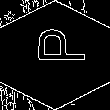P_W: (26, 37, 84, 73)
